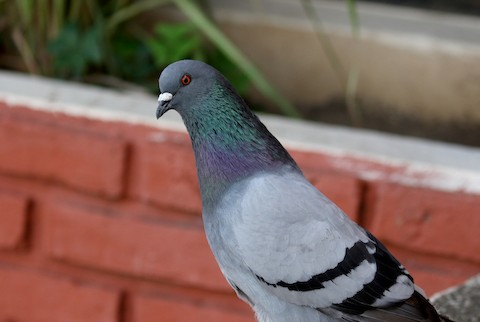pigeon: (148, 56, 449, 315)
